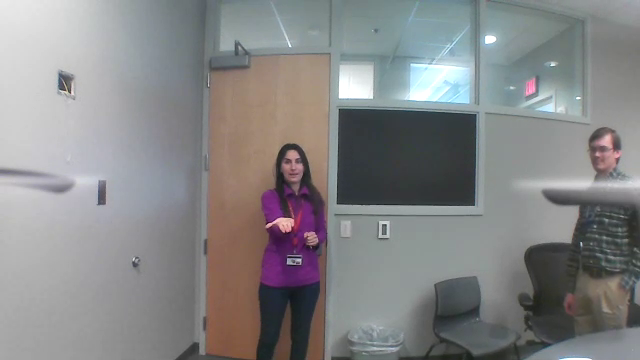land: (260, 214, 299, 235)
